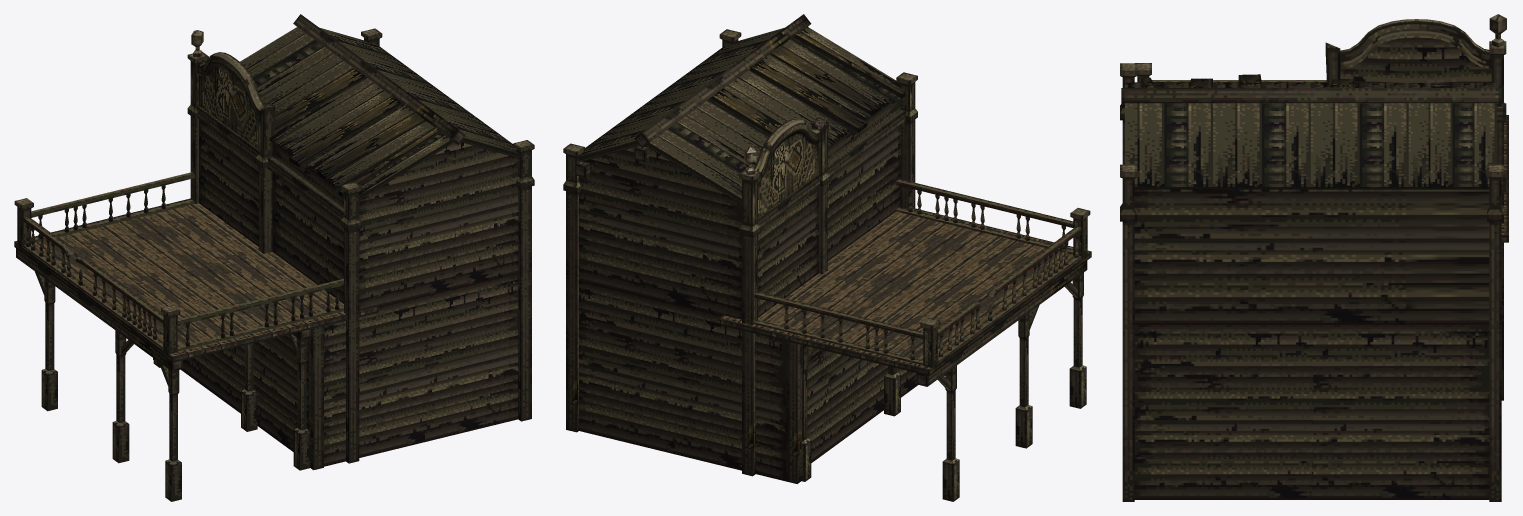
Rendered from EnvBdgMD_Wilderness_A_Outdoor_Shop_Pub_Broken.FBX.
The picture shows the model from 3 angles, left to right: view 1: azimuth 30°, elevation 25°; view 2: azimuth 150°, elevation 25°; view 3: azimuth 270°, elevation 25°; orthographic projection. The views are drawn at different scales.
Parts seen in each view (by area): view 1: EnvBdgMD_Wilderness_A_Outdoor_Shop_Pub_Broken; view 2: EnvBdgMD_Wilderness_A_Outdoor_Shop_Pub_Broken; view 3: EnvBdgMD_Wilderness_A_Outdoor_Shop_Pub_Broken.
Boxes of the visible parts, x1=… form: EnvBdgMD_Wilderness_A_Outdoor_Shop_Pub_Broken: x1=14, y1=14, x2=534, y2=501; EnvBdgMD_Wilderness_A_Outdoor_Shop_Pub_Broken: x1=563, y1=14, x2=1091, y2=501; EnvBdgMD_Wilderness_A_Outdoor_Shop_Pub_Broken: x1=1120, y1=14, x2=1508, y2=501.
Size of the model in its own units: 1025 by 865 by 795.
1 material, 1 textured.
